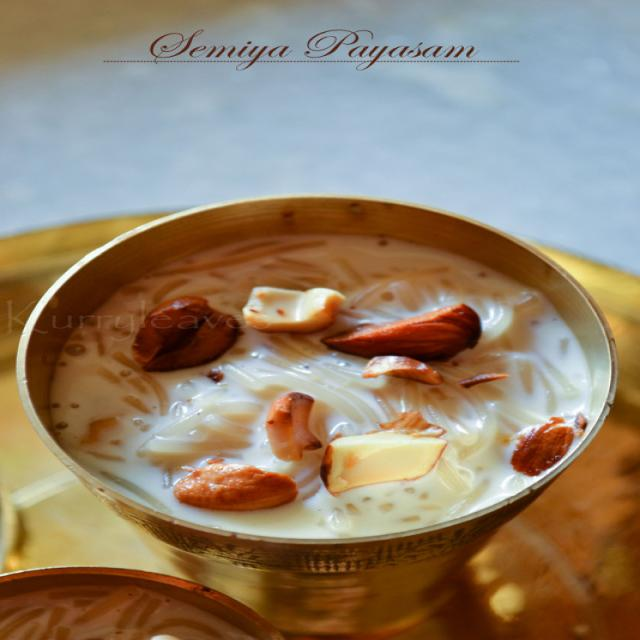shavige payasa: (24, 196, 640, 553)
